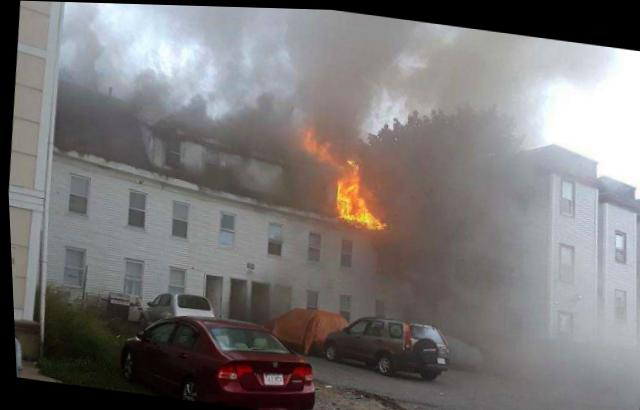fire: (293, 130, 396, 228)
